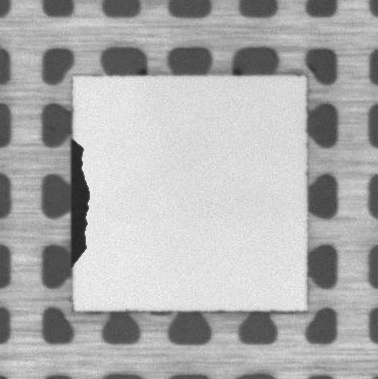DIE_BROKEN: (68, 138, 92, 264)
